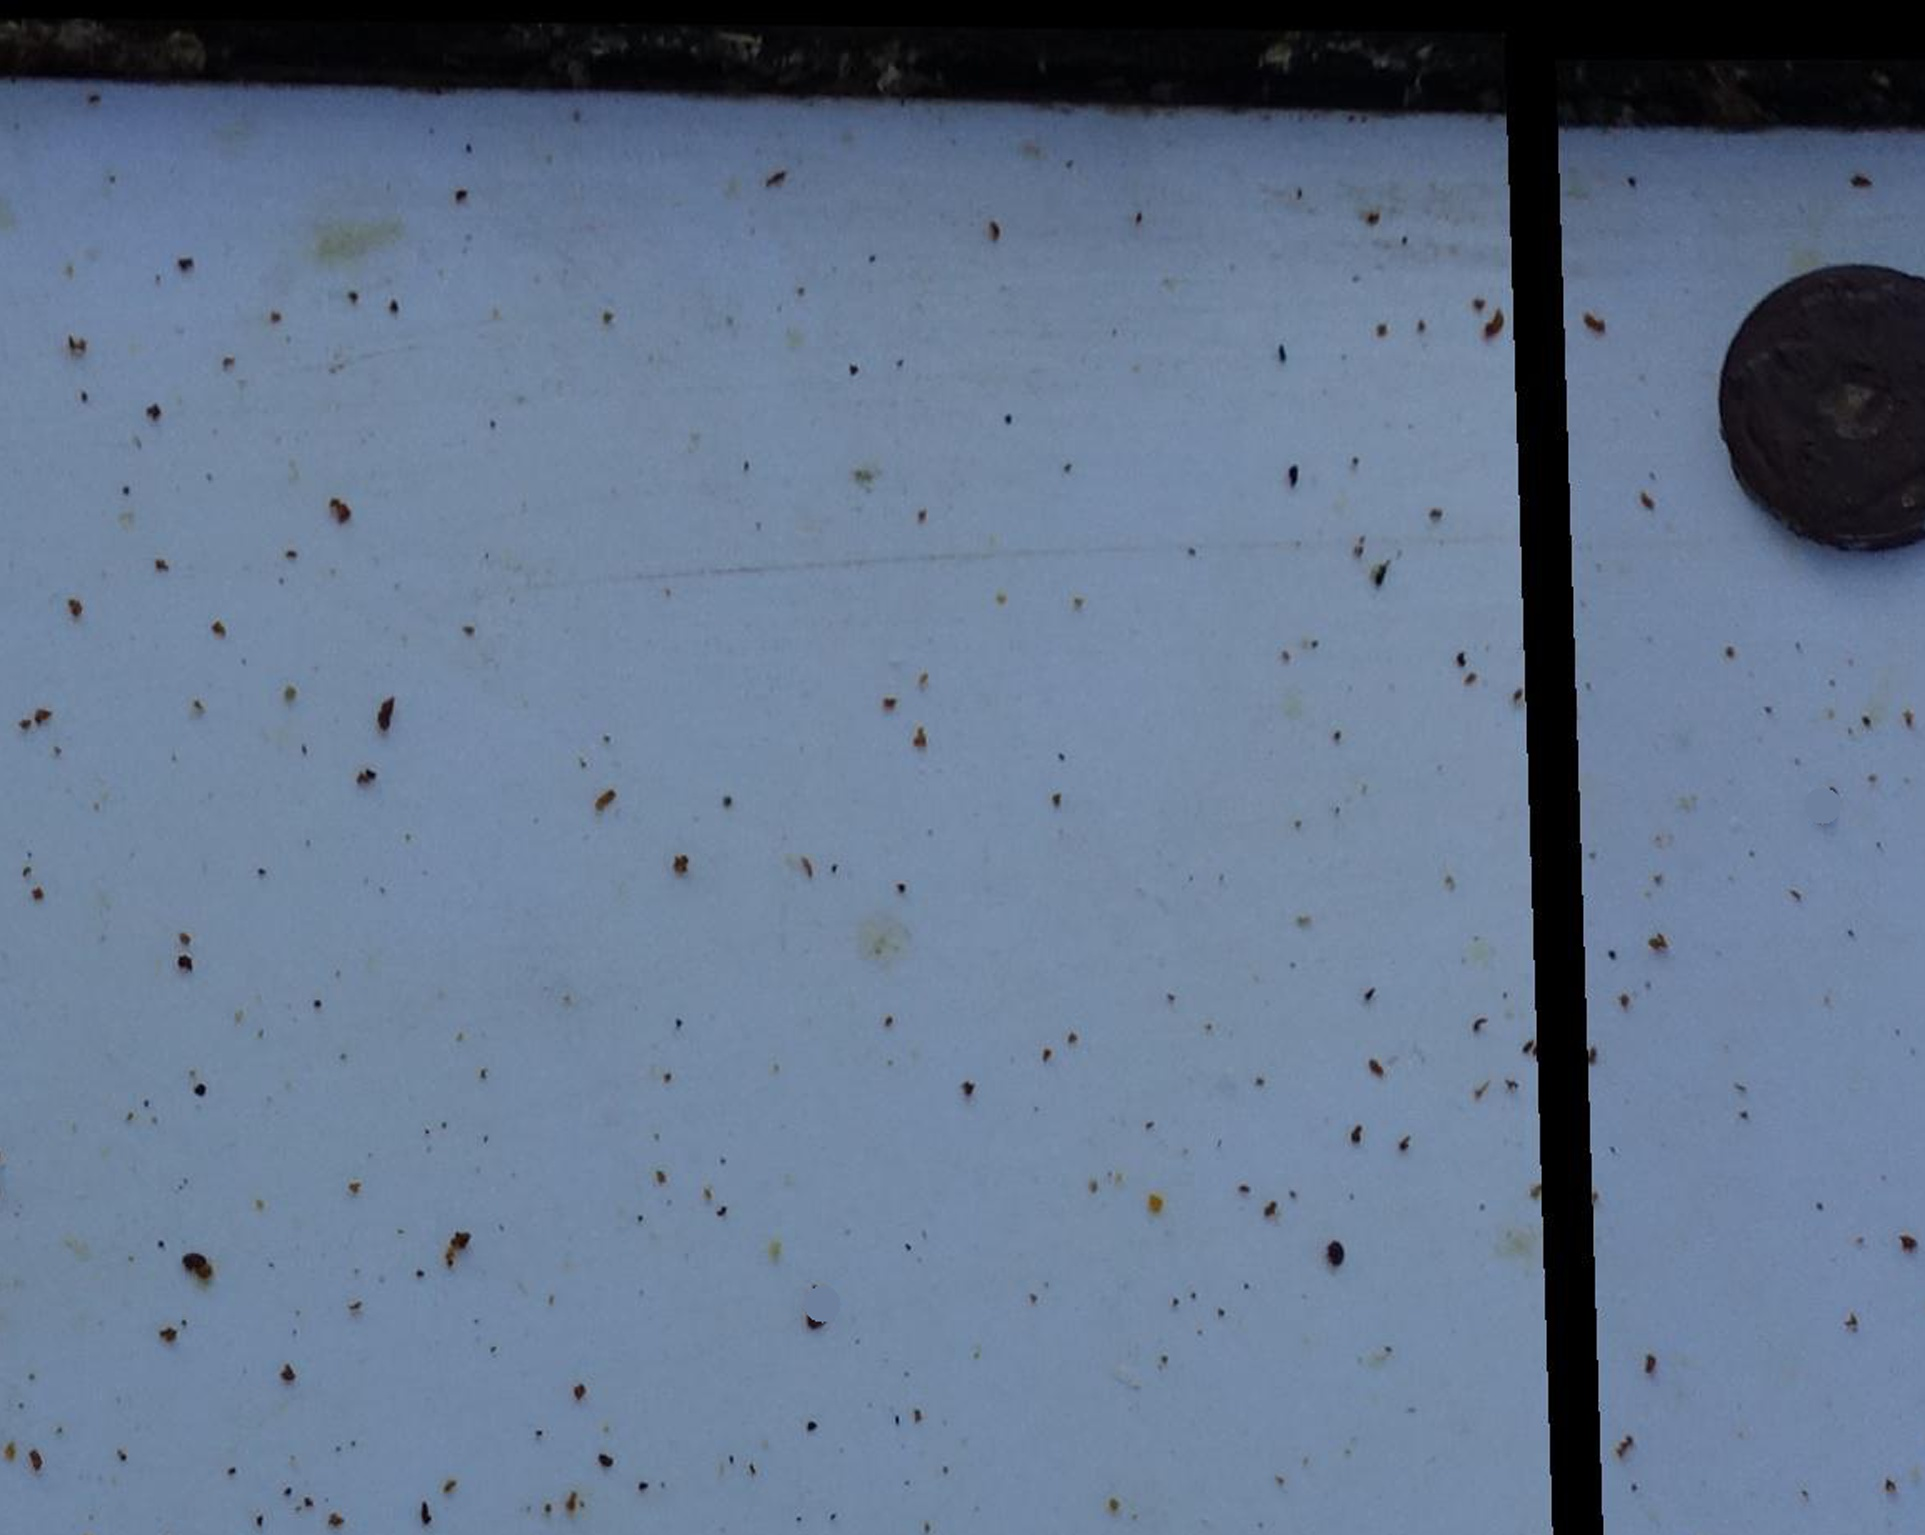Varroa: (183, 1248, 215, 1280), (802, 1306, 832, 1338), (1322, 1241, 1350, 1270)
